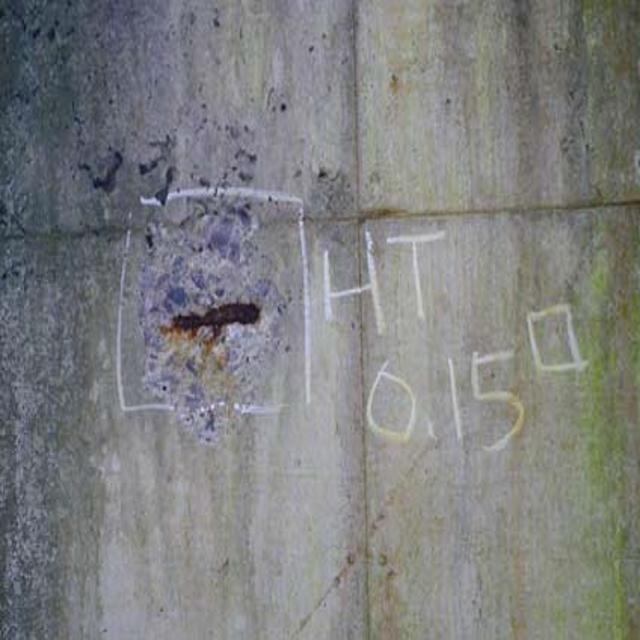spalling: (147, 186, 300, 417)
